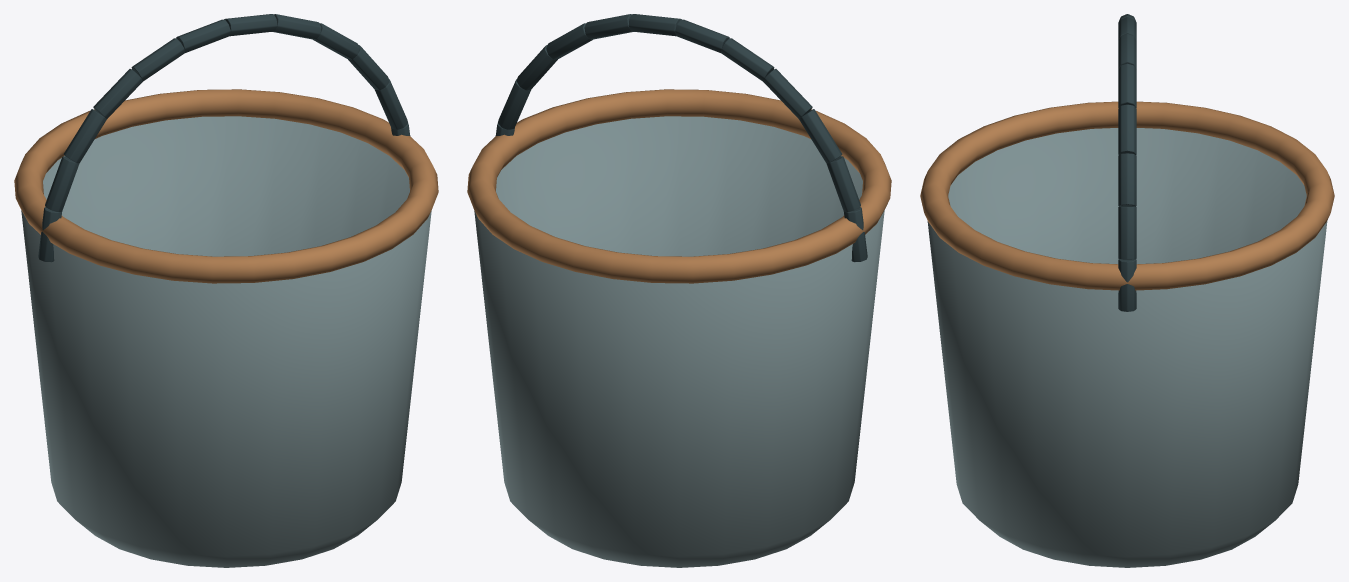
The model's file is SM_WaterBucket.fbx.
3 renders of one model, left to right at view 1: azimuth 30°, elevation 25°; view 2: azimuth 150°, elevation 25°; view 3: azimuth 270°, elevation 25°, orthographic. The views are drawn at different scales.
Visible parts, largest first — view 1: SM_WaterBucket; view 2: SM_WaterBucket; view 3: SM_WaterBucket.
Boxes of the visible parts, <box> form: SM_WaterBucket: <box>14,14,438,567</box>; SM_WaterBucket: <box>467,14,891,567</box>; SM_WaterBucket: <box>920,14,1334,567</box>.
Size of what is drawn, in the model's own units: 0.543 by 0.534 by 0.6716.
